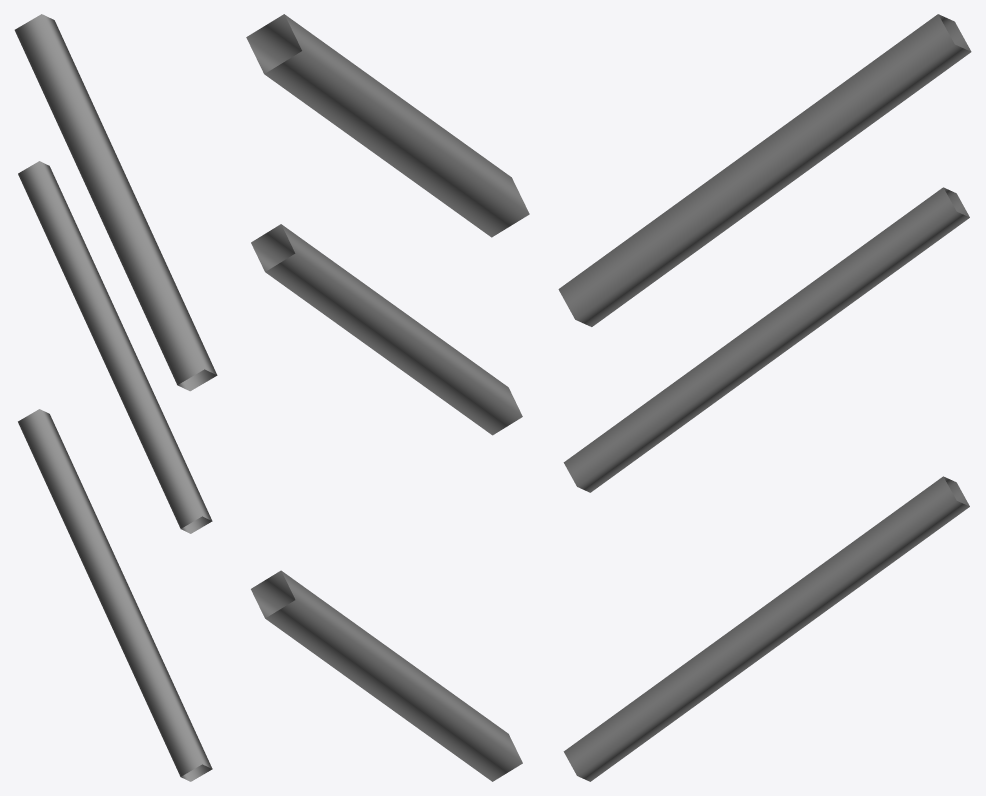
Rendered from SW_ENV_Railing_StairRails_02.fbx.
3 views of the same model, side by side, from view 1: azimuth 30°, elevation 25°; view 2: azimuth 150°, elevation 25°; view 3: azimuth 270°, elevation 25° (orthographic). The views are drawn at different scales.
Parts seen in each view (by area): view 1: SW_ENV_Railing_StairRails_02; view 2: SW_ENV_Railing_StairRails_02; view 3: SW_ENV_Railing_StairRails_02.
Part boxes in pixels (x1=…): SW_ENV_Railing_StairRails_02: x1=14, y1=14, x2=217, y2=781; SW_ENV_Railing_StairRails_02: x1=246, y1=14, x2=529, y2=781; SW_ENV_Railing_StairRails_02: x1=558, y1=14, x2=971, y2=781.
Bounding box in the file's own units: 0.0712 × 1.12 × 0.5442.
